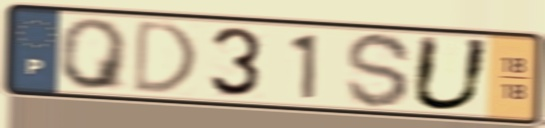1: (286, 32, 325, 101)
3: (204, 24, 270, 101)
D: (130, 17, 201, 97)
Q: (57, 16, 133, 92)
S: (344, 30, 416, 111)
U: (407, 32, 495, 114)
